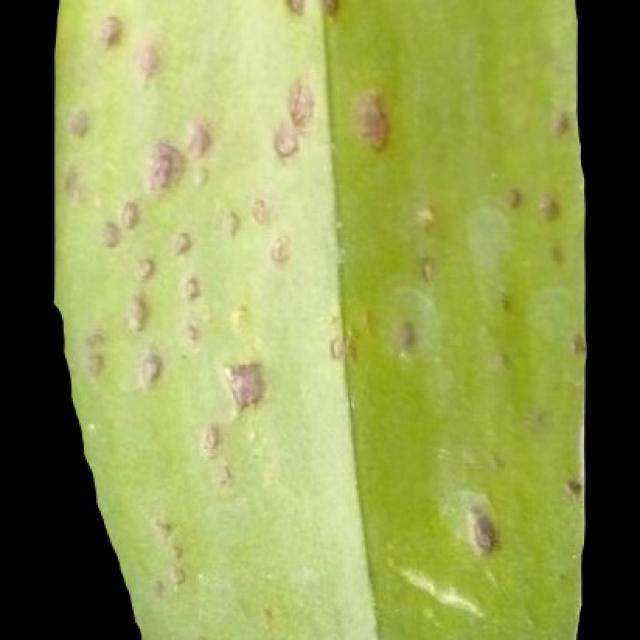mite: (432, 475, 516, 570), (384, 284, 438, 360), (286, 78, 315, 127), (393, 315, 418, 354), (96, 12, 123, 48), (137, 351, 163, 387), (281, 0, 306, 16)
spots: (51, 0, 587, 638)
